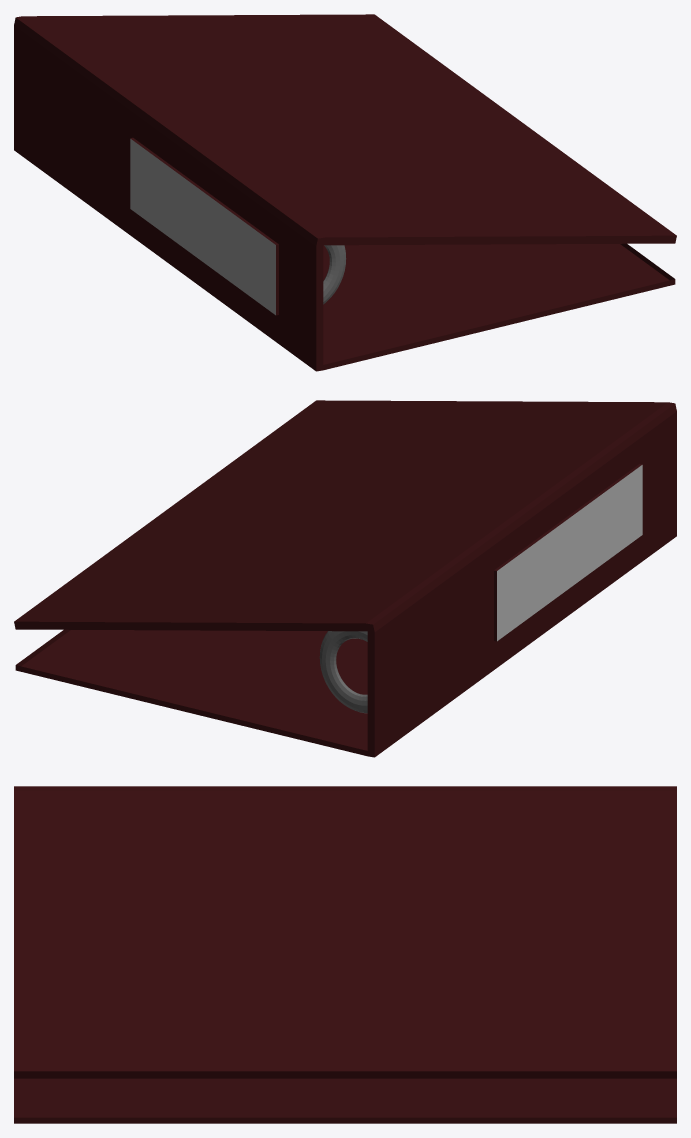
File: red file 1 no paper.fbx
3 views of the same model, one above another, from view 1: azimuth 30°, elevation 25°; view 2: azimuth 150°, elevation 25°; view 3: azimuth 270°, elevation 25° (orthographic). The views are drawn at different scales.
Visible parts, largest first — view 1: Cube; view 2: Cube; view 3: Cube.
Part boxes in pixels (box(x1,y1,x2,y2)): Cube: box(14, 14, 676, 371); Cube: box(14, 400, 676, 757); Cube: box(14, 786, 676, 1123).
Bounding box in the file's own units: 257 × 89.7 × 369.
